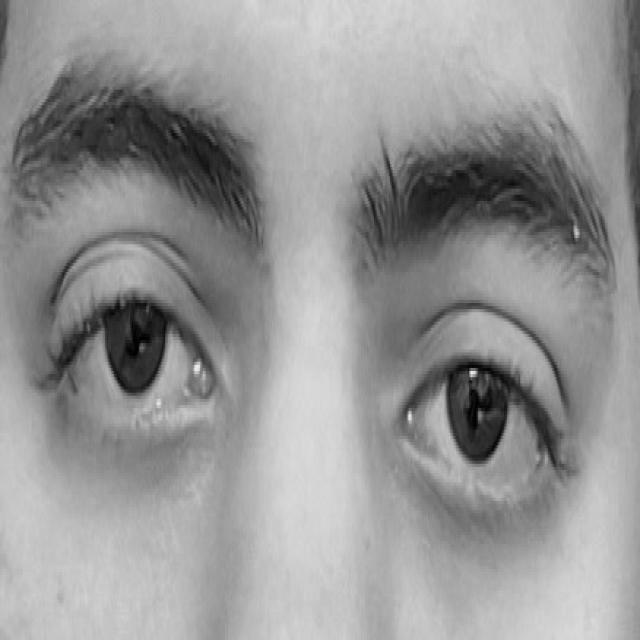real: (15, 128, 600, 564)
